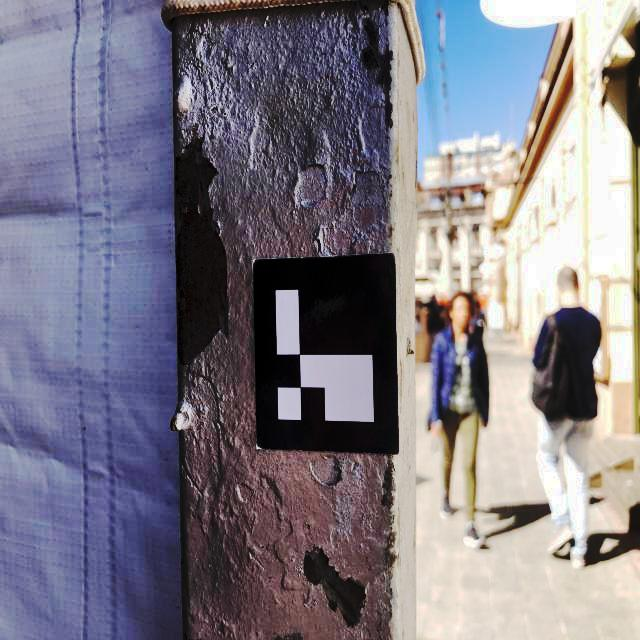Corrosion: (175, 137, 228, 365), (362, 6, 393, 129), (303, 548, 330, 586), (346, 578, 365, 601), (341, 598, 356, 619), (343, 614, 352, 625), (329, 600, 336, 610)
